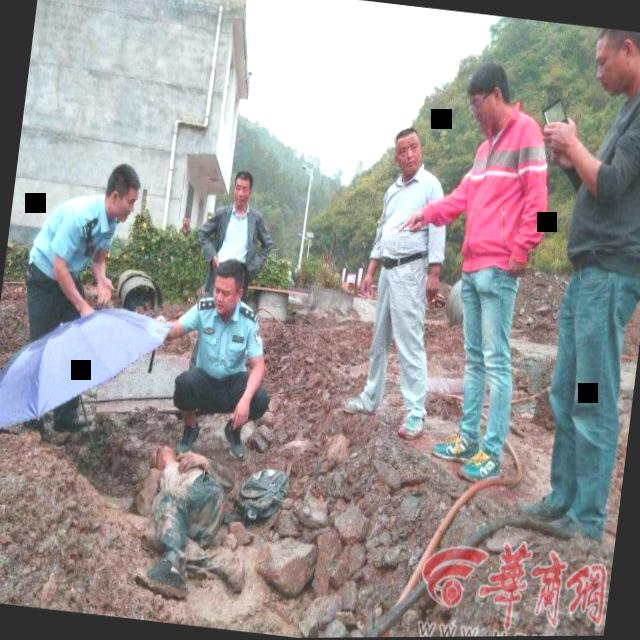Fall-Detected: (111, 417, 260, 611)
